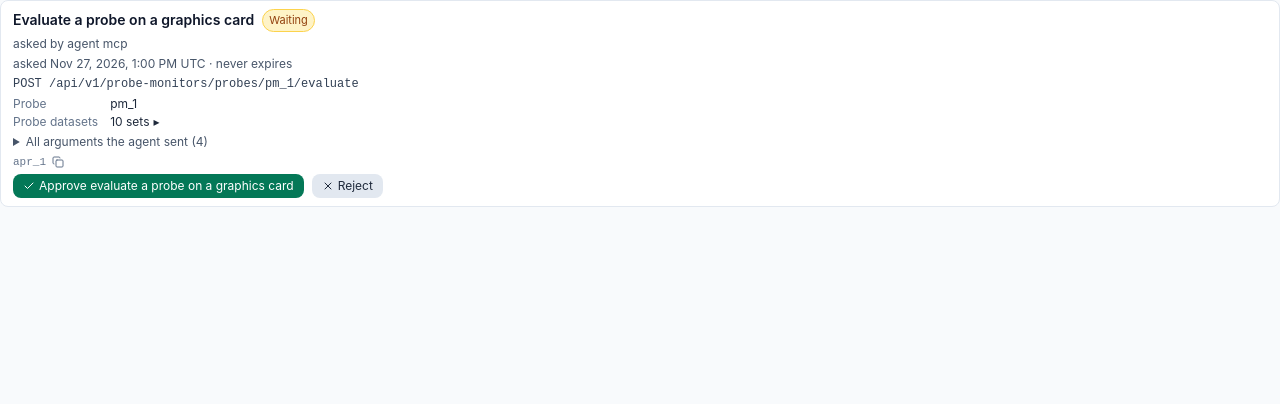
Test: the approval card lists sets one per line, collapsible › an evaluation's Probe datasets fact (evaluate_probe_monitor): one name (id) per line
Expected: the button "Reject" is enabled, [312,174,383,198]
Click the button "10 sets ▸".
click(135, 122)  # box [110,114,160,130]
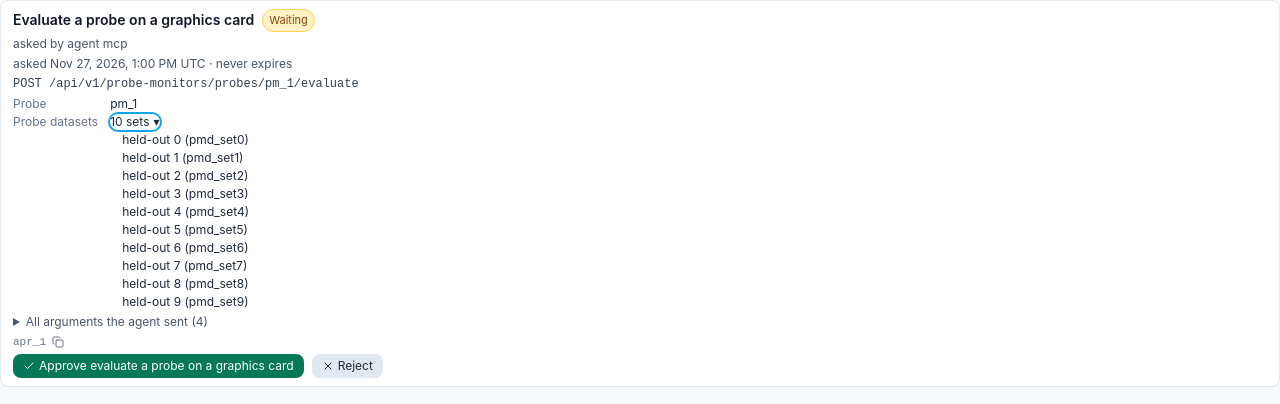
Result: the number of list items is 10
